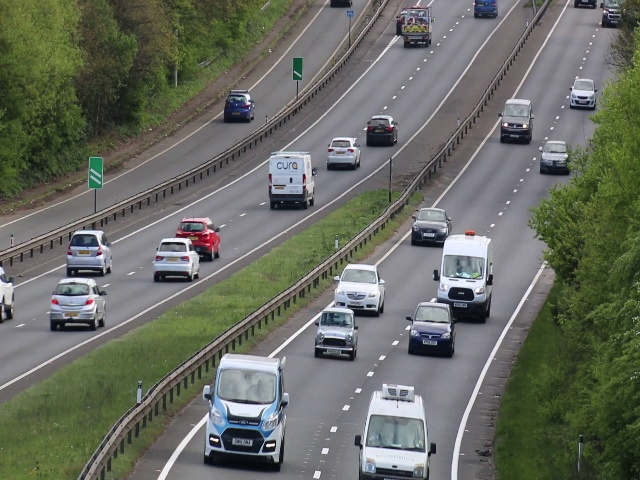car: (204, 355, 286, 468), (360, 391, 429, 480), (433, 237, 500, 299), (47, 277, 108, 331), (265, 152, 314, 211), (408, 303, 454, 360), (152, 235, 199, 281), (66, 231, 113, 274), (314, 309, 355, 358), (337, 265, 385, 300), (410, 205, 445, 248), (499, 98, 532, 141), (326, 136, 362, 171), (399, 8, 430, 47), (567, 75, 596, 112), (366, 115, 397, 147), (182, 216, 215, 246), (224, 91, 254, 122), (540, 144, 569, 174)
